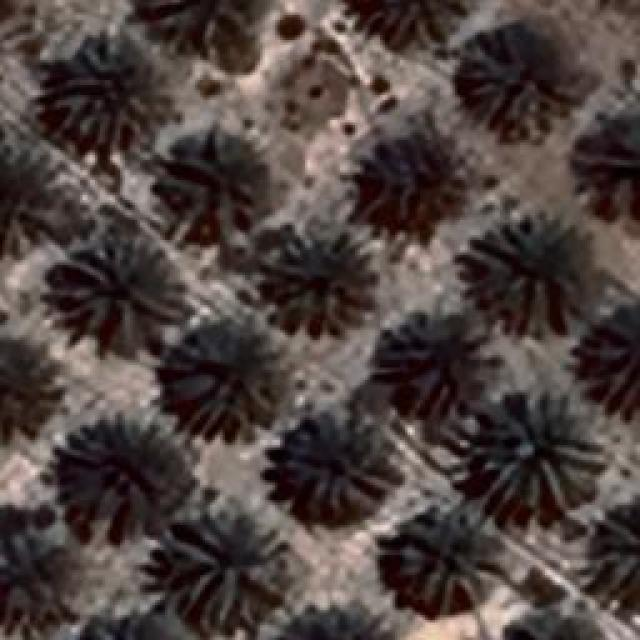PalmTree: (58, 115, 334, 623), (121, 35, 611, 170), (472, 385, 606, 510), (50, 238, 188, 352), (52, 32, 178, 150), (170, 508, 292, 628), (455, 29, 583, 142), (472, 210, 590, 332), (160, 330, 285, 442), (265, 222, 380, 336), (355, 125, 465, 240), (150, 130, 262, 242), (390, 500, 502, 610), (280, 408, 400, 510), (68, 426, 180, 532), (379, 320, 469, 412), (5, 531, 70, 629), (0, 132, 55, 246), (152, 0, 262, 55), (587, 308, 640, 411), (370, 0, 468, 48), (494, 603, 607, 640), (0, 340, 42, 437), (592, 508, 638, 592), (68, 612, 186, 640), (71, 620, 185, 640)
